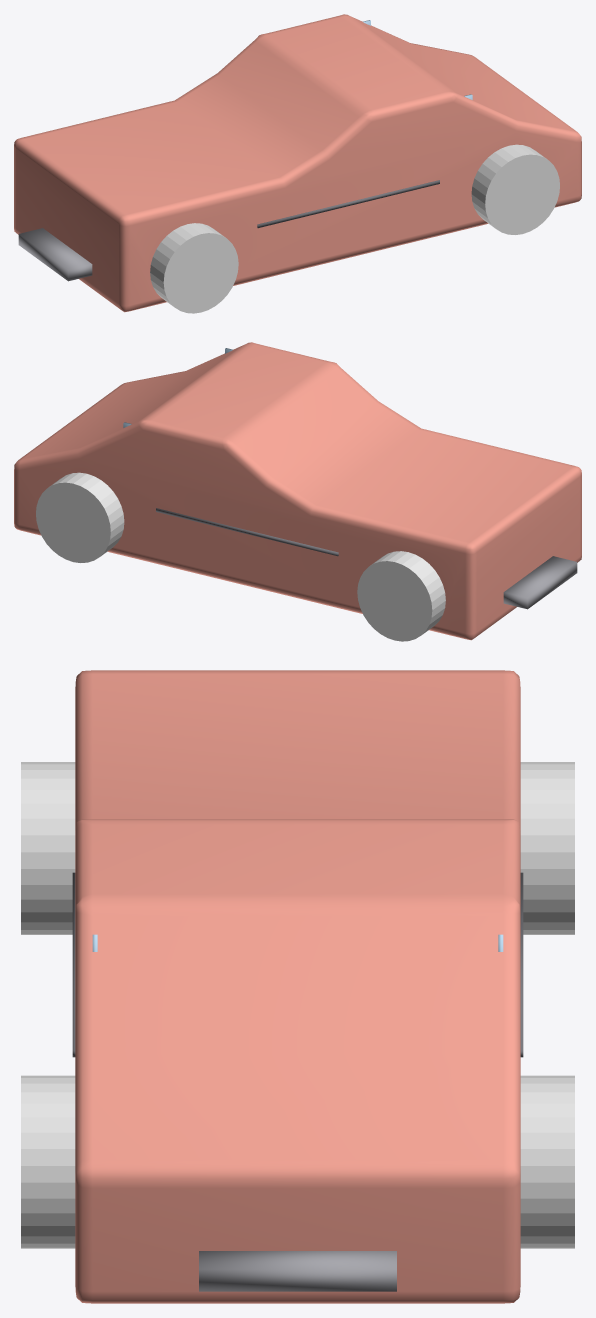
Rendered from car_truck_red.glb.
The picture shows the model from 3 angles, top to bottom: view 1: azimuth 30°, elevation 25°; view 2: azimuth 150°, elevation 25°; view 3: azimuth 270°, elevation 25°; orthographic projection. The views are drawn at different scales.
Visible parts, largest first — view 1: body, well_rear_r, well_front_r, bumper_rear, trim_right; view 2: body, well_rear_l, well_front_l, bumper_rear, trim_left; view 3: body, well_front_l, well_front_r, well_rear_l, well_rear_r, bumper_front.
Part boxes in pixels (x1=…): body: x1=14, y1=14, x2=581, y2=312; well_rear_r: x1=150, y1=223, x2=238, y2=313; well_front_r: x1=471, y1=144, x2=559, y2=234; bumper_rear: x1=18, y1=228, x2=92, y2=281; trim_right: x1=257, y1=180, x2=439, y2=228; body: x1=14, y1=342, x2=581, y2=640; well_rear_l: x1=357, y1=551, x2=445, y2=641; well_front_l: x1=36, y1=472, x2=124, y2=562; bumper_rear: x1=503, y1=556, x2=577, y2=609; trim_left: x1=156, y1=508, x2=338, y2=556; body: x1=75, y1=670, x2=520, y2=1303; well_front_l: x1=520, y1=1075, x2=574, y2=1248; well_front_r: x1=21, y1=1075, x2=75, y2=1248; well_rear_l: x1=520, y1=762, x2=574, y2=934; well_rear_r: x1=21, y1=762, x2=75, y2=934; bumper_front: x1=199, y1=1251, x2=396, y2=1291.
Size of the model in its own units: 4.7 by 1.28 by 2.24.
